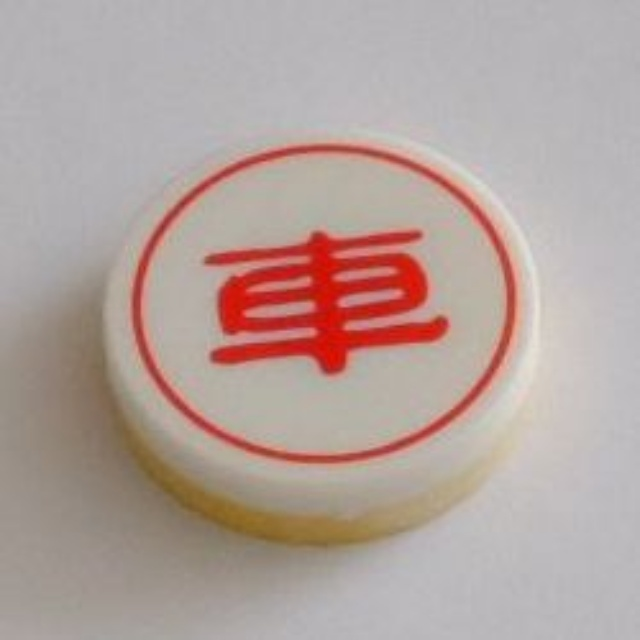red_xe: (89, 123, 572, 545)
